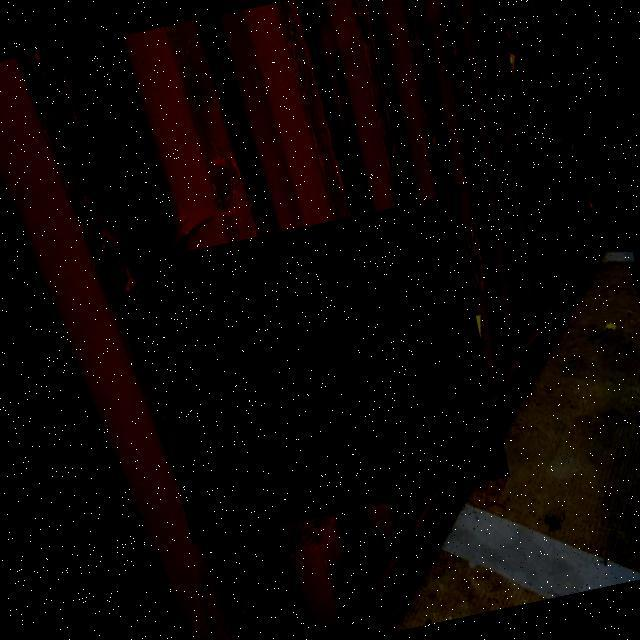Dent: (132, 196, 510, 544)
